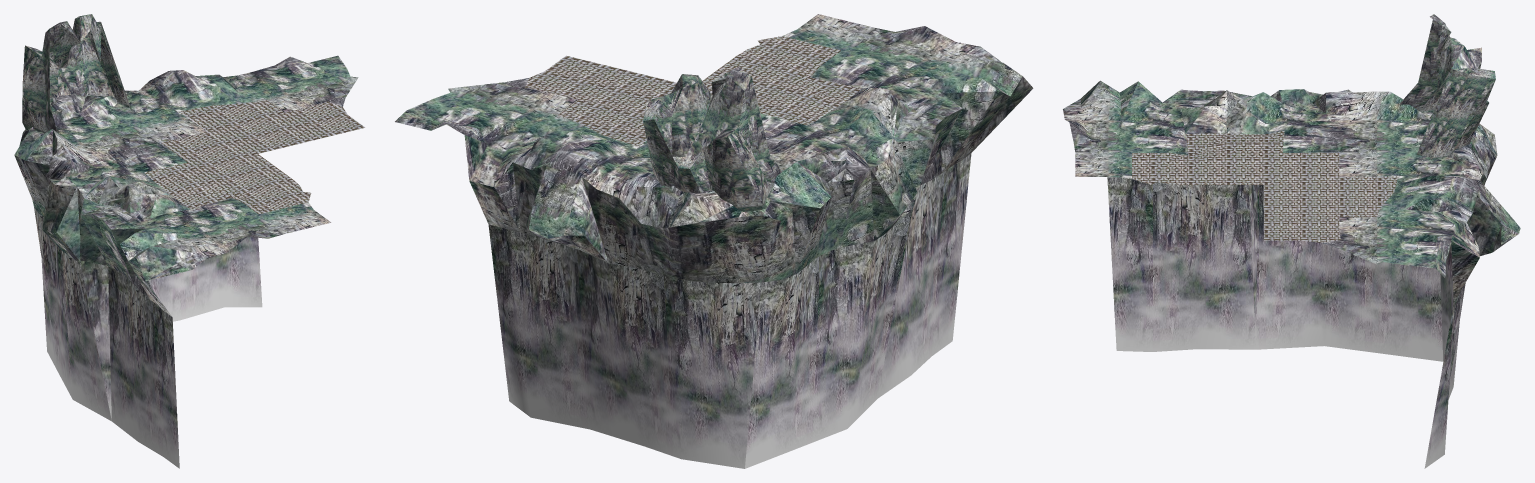
3 views of the same model, side by side, from view 1: azimuth 30°, elevation 25°; view 2: azimuth 150°, elevation 25°; view 3: azimuth 270°, elevation 25° (orthographic). The views are drawn at different scales.
Parts seen in each view (by area): view 1: Box66; view 2: Box66; view 3: Box66.
Part boxes in pixels (box(x1,y1,x2,y2)): Box66: box(14, 14, 365, 468); Box66: box(395, 14, 1033, 468); Box66: box(1063, 14, 1520, 468).
Bounding box in the file's own units: 1782 × 1544 × 1822.
